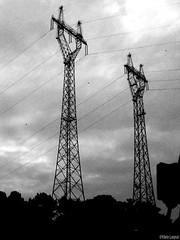power_tower: (45, 1, 91, 205), (119, 51, 162, 210)
